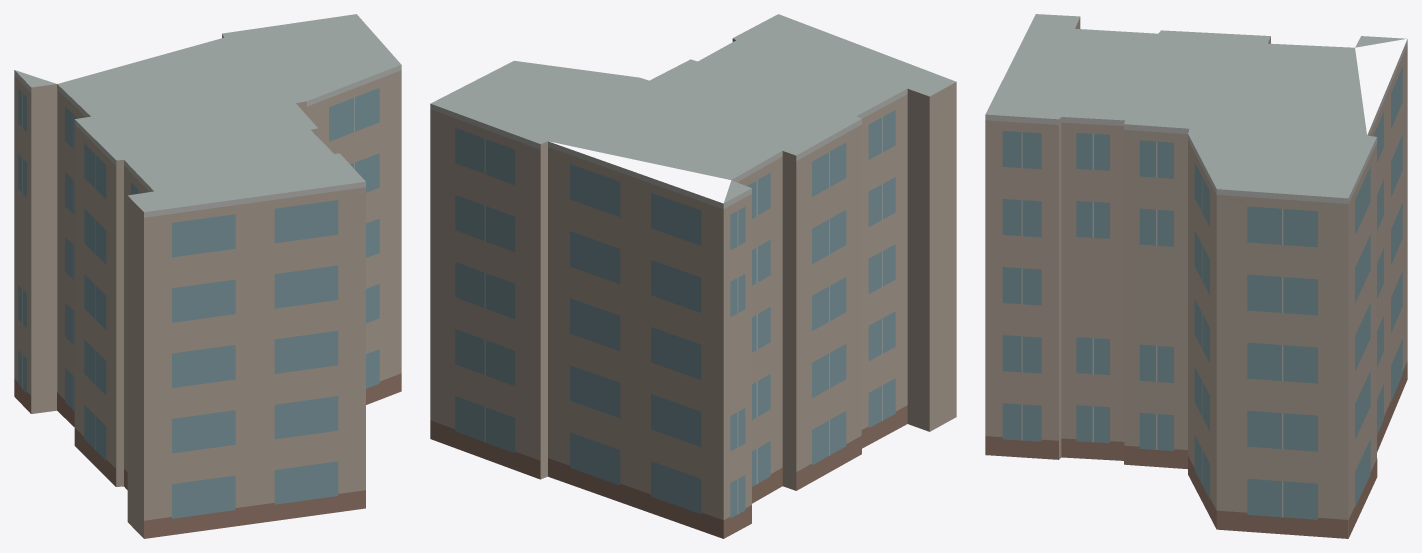
The model's file is survey-upis-32935341.glb.
3 renders of one model, left to right at view 1: azimuth 30°, elevation 25°; view 2: azimuth 150°, elevation 25°; view 3: azimuth 270°, elevation 25°, orthographic. The views are drawn at different scales.
Parts seen in each view (by area): view 1: survey-upis-32935341.tmp; view 2: survey-upis-32935341.tmp; view 3: survey-upis-32935341.tmp.
Part boxes in pixels (<box>): survey-upis-32935341.tmp: <box>14,14,401,538</box>; survey-upis-32935341.tmp: <box>430,14,956,538</box>; survey-upis-32935341.tmp: <box>985,14,1407,538</box>.
Size of the model in its own units: 16.97 by 14.6 by 16.42.
